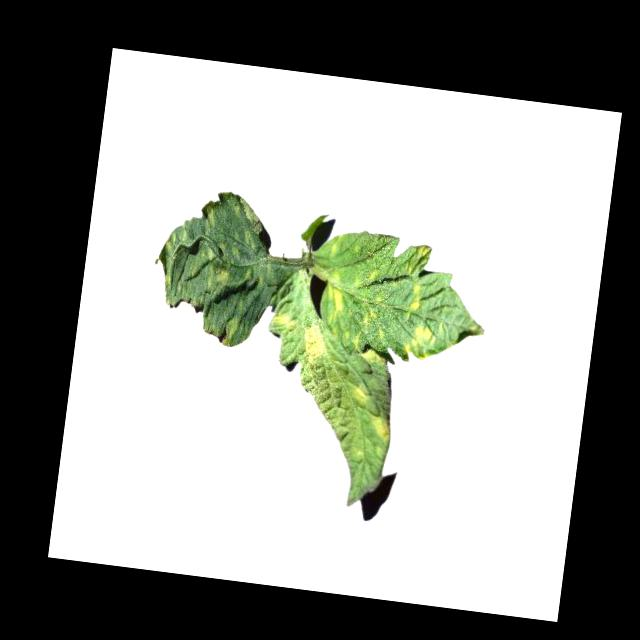Leaf_Mold: (311, 226, 502, 369), (147, 184, 283, 352), (301, 323, 324, 362), (269, 312, 297, 335), (370, 414, 392, 439), (352, 382, 372, 407)
